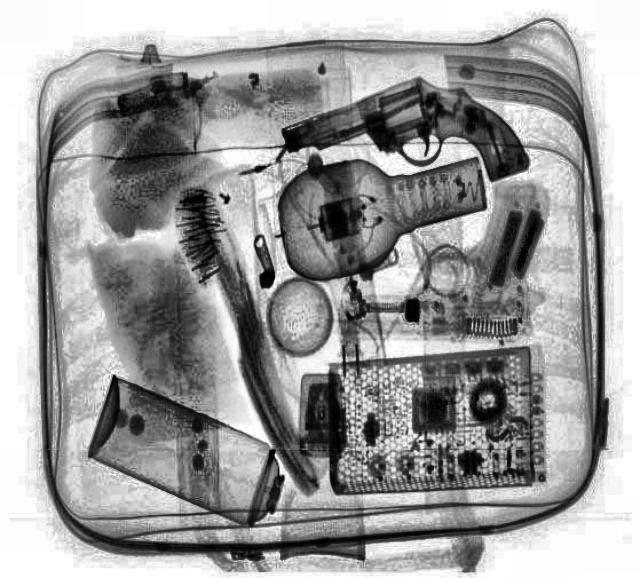Gun: (278, 74, 530, 182)
